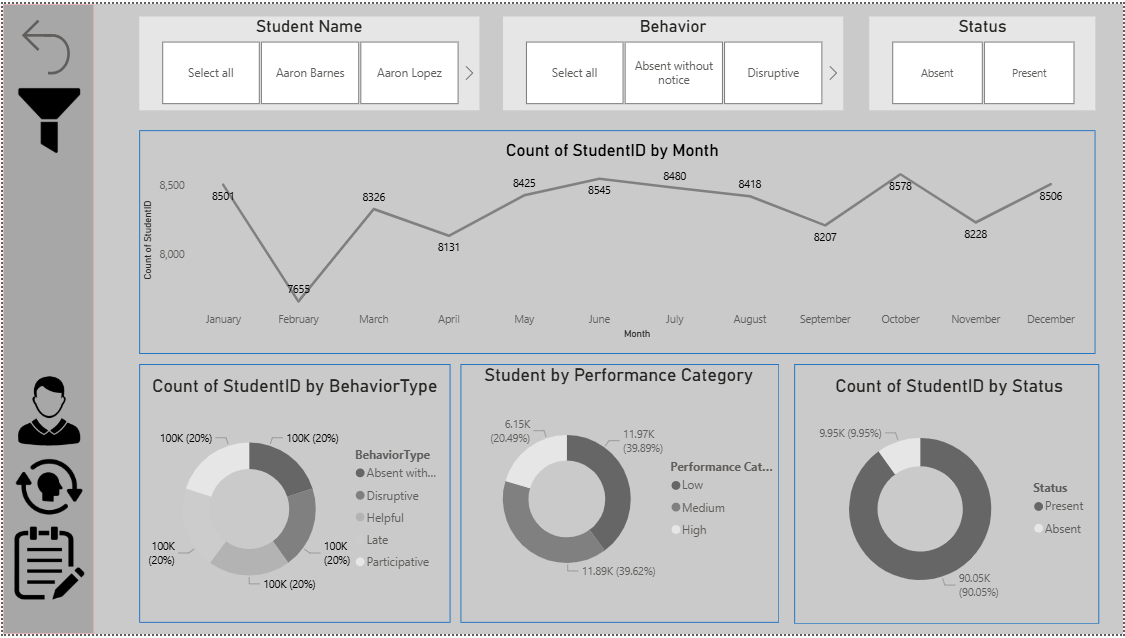

The dashboard page shown, as its layout file describes it:
{"tool":"powerbi","page":{"name":"Student Behavior","canvas":[1280,720],"ordinal":2},"visuals":[{"type":"shape","box":[0,0,104.3,720],"z":0},{"type":"donutChart","fields":{"Category":["Attendance.Status"],"Y":["Attendance.StudentID"]},"box":[911.4,400,337.1,320],"z":1000},{"type":"donutChart","fields":{"Y":["Attendance.StudentID"],"Category":["Behavior.BehaviorType"]},"box":[155.7,400,391.4,320],"z":2000},{"type":"slicer","title":"Status","fields":{"Values":["Attendance.Status"]},"box":[990,14.3,258.6,107.1],"z":3000},{"type":"slicer","title":"Behavior","fields":{"Values":["Behavior.BehaviorType"]},"box":[571.4,14.3,388.6,107.1],"z":4000},{"type":"slicer","title":"Student Name","fields":{"Values":["Students.Name"]},"box":[155.7,14.3,388.6,107.1],"z":5000},{"type":"shape","box":[155.7,144.3,1092.9,241.4],"z":6000},{"type":"lineChart","fields":{"Category":["Attendance.Date.Variation.Date Hierarchy.Month"],"Y":["Attendance.StudentID"]},"box":[155.7,144.3,1092.9,241.4],"z":7000}]}

Visuals, with their boxes on the page's 1280x720 design canvas (x1, y1, x2, y2). These are canvas units, not pixel positions in the 1125x638 screenshot, which may show the page scaled, cropped or inside an application window:
shape: detection(0, 0, 104, 720)
donutChart - Attendance.Status x Attendance.StudentID: detection(911, 400, 1248, 720)
donutChart - Attendance.StudentID x Behavior.BehaviorType: detection(156, 400, 547, 720)
"Status" slicer: detection(990, 14, 1249, 121)
"Behavior" slicer: detection(571, 14, 960, 121)
"Student Name" slicer: detection(156, 14, 544, 121)
shape: detection(156, 144, 1249, 386)
lineChart - Attendance.Date.Variation.Date Hierarchy.Month x Attendance.StudentID: detection(156, 144, 1249, 386)
